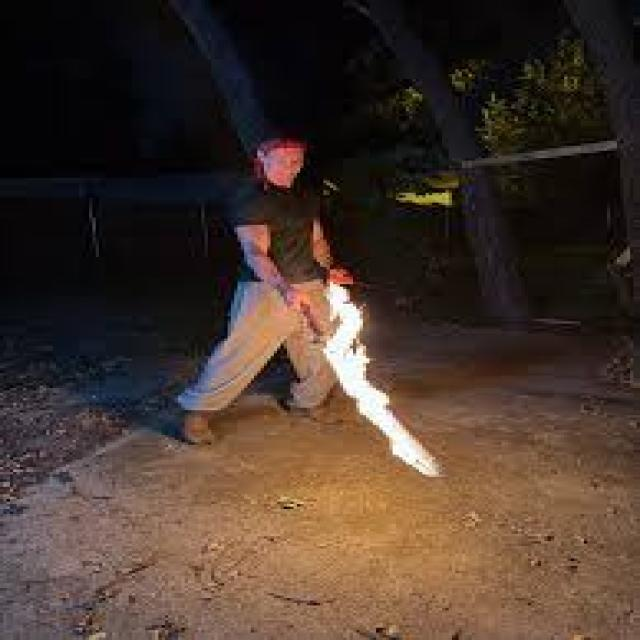fire: (320, 281, 440, 477)
